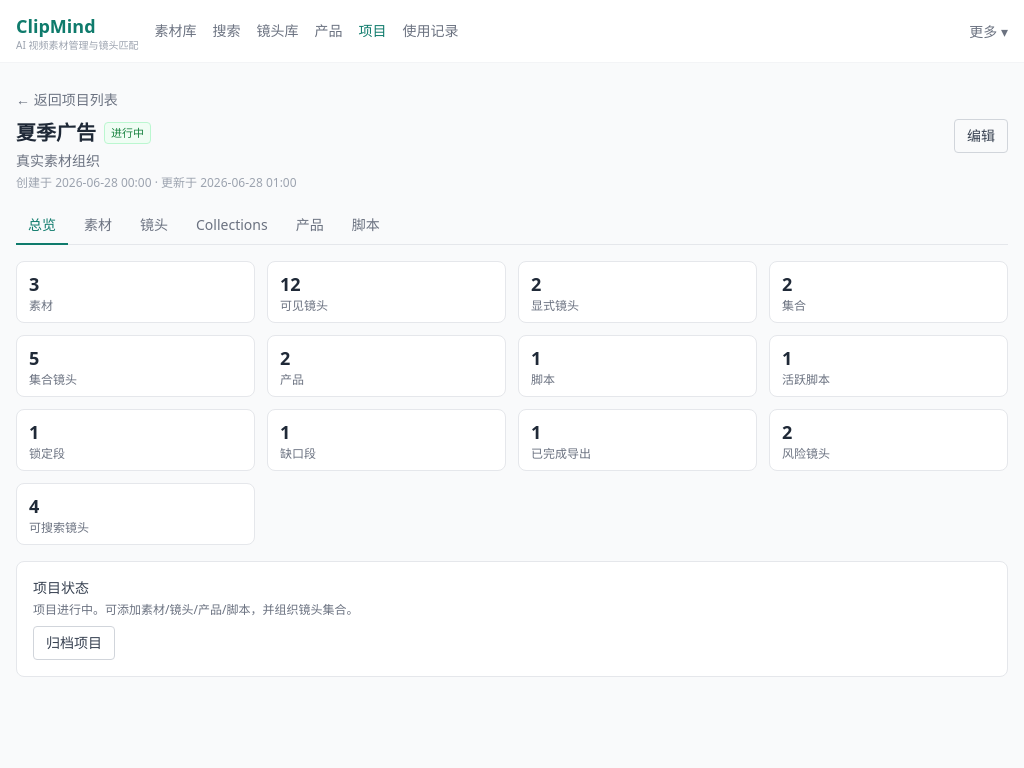
Test: ProjectDetailView › 409 冲突显示可读提示（role=alert）
The width and height of the screenshot is (1024, 768).
Click the button with test id "edit-project".
click(981, 136)  # box [954, 119, 1008, 153]
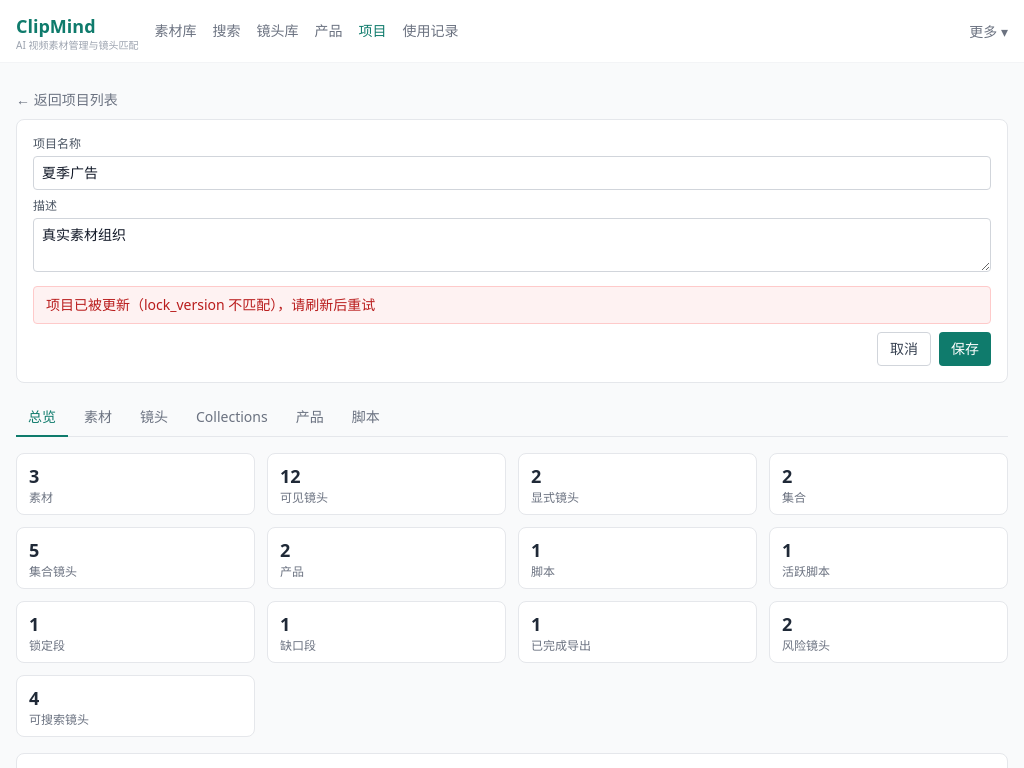
Expected: the message shows "lock_version 不匹配", [46, 295, 375, 314]
